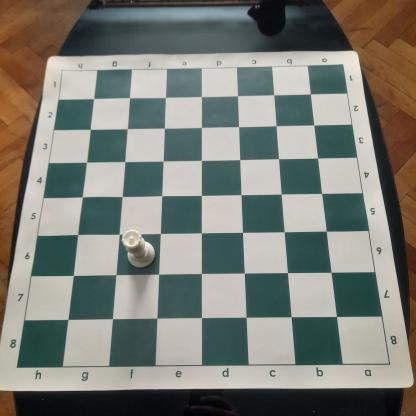white-queen: (120, 228, 156, 270)
